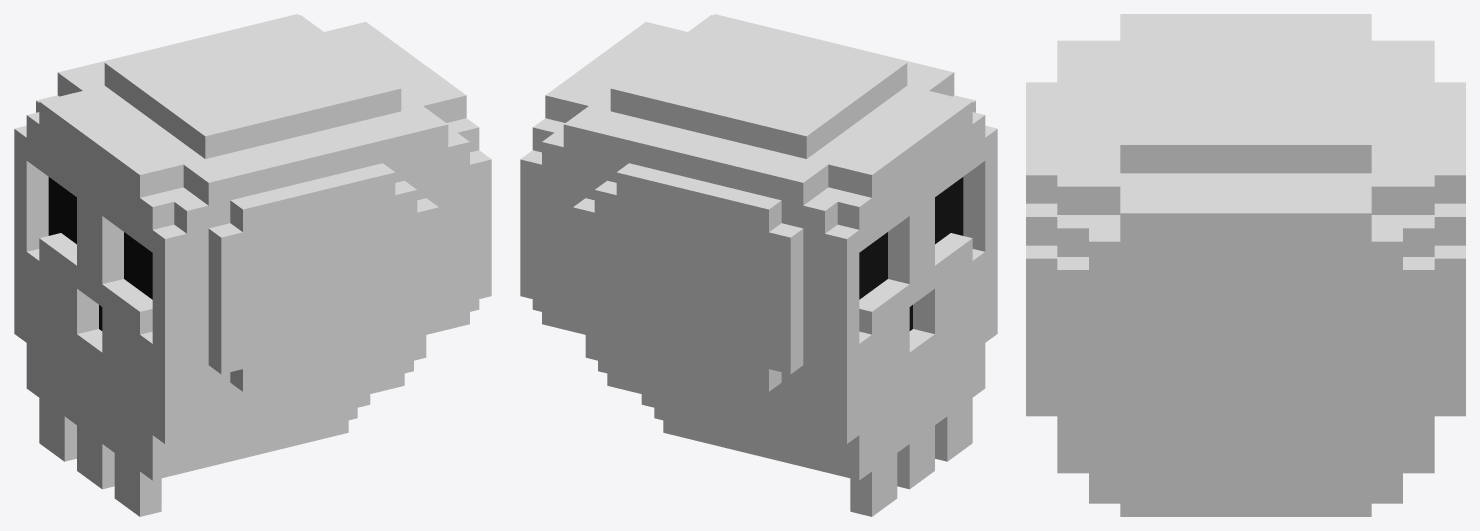
The model's file is skulk.obj.
3 renders of one model, left to right at view 1: azimuth 30°, elevation 25°; view 2: azimuth 150°, elevation 25°; view 3: azimuth 270°, elevation 25°, orthographic. The views are drawn at different scales.
Size of the model in its own units: 1.5 by 1.6 by 1.4.
Materials: 1 (1 with a texture image).
